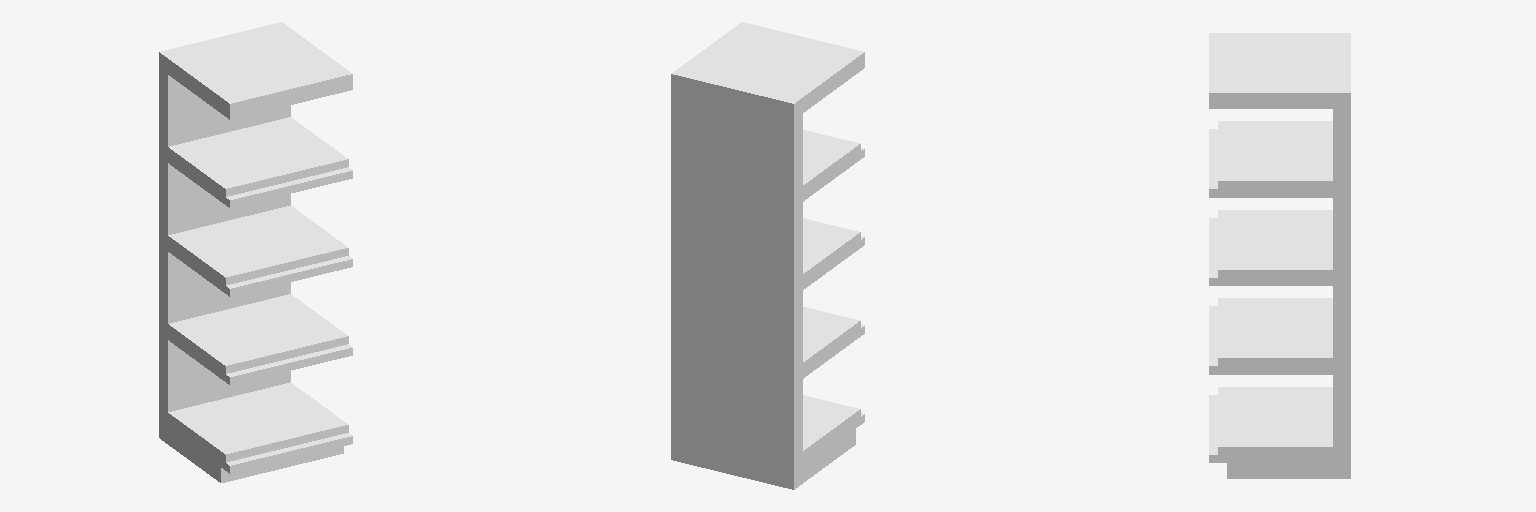
File: fullVeggiesShelf4.obj
3 views of the same model, side by side, from view 1: azimuth 30°, elevation 25°; view 2: azimuth 150°, elevation 25°; view 3: azimuth 270°, elevation 25° (orthographic).
Visible parts, largest first — view 1: object 1; view 2: object 1; view 3: object 1.
Boxes of the visible parts, x1=… form: object 1: x1=159, y1=22, x2=352, y2=482; object 1: x1=671, y1=22, x2=864, y2=489; object 1: x1=1209, y1=33, x2=1350, y2=478.
Bounding box in the file's own units: 1.6 × 4.8 × 1.6.